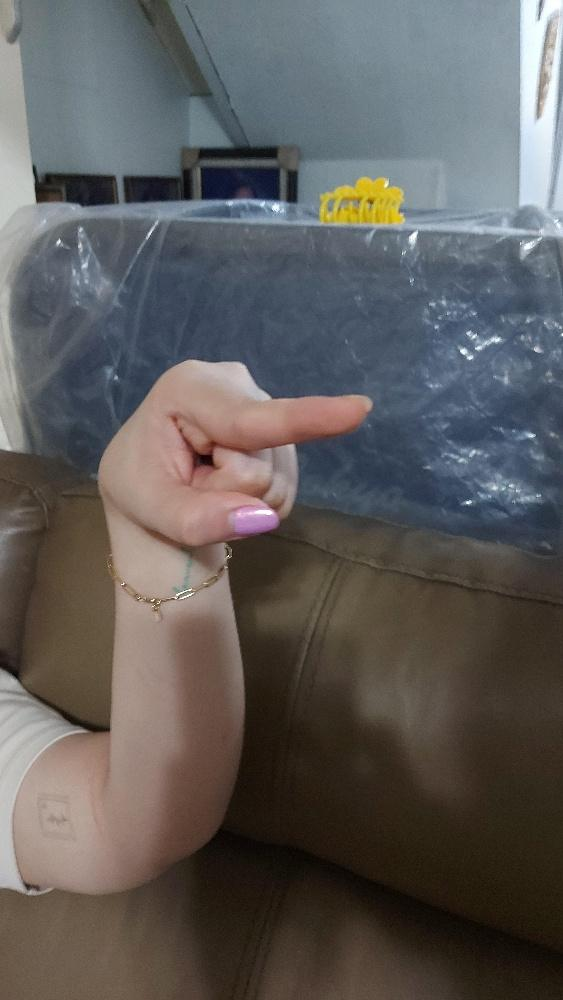z: (96, 357, 366, 546)
